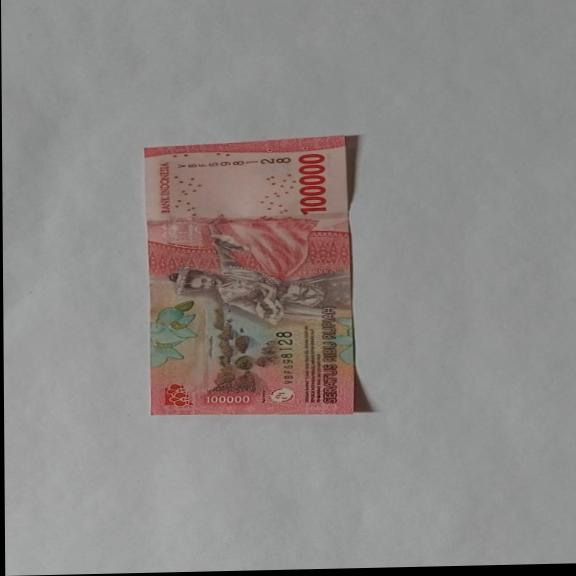Kertas: (143, 134, 365, 419), (296, 153, 329, 215)
